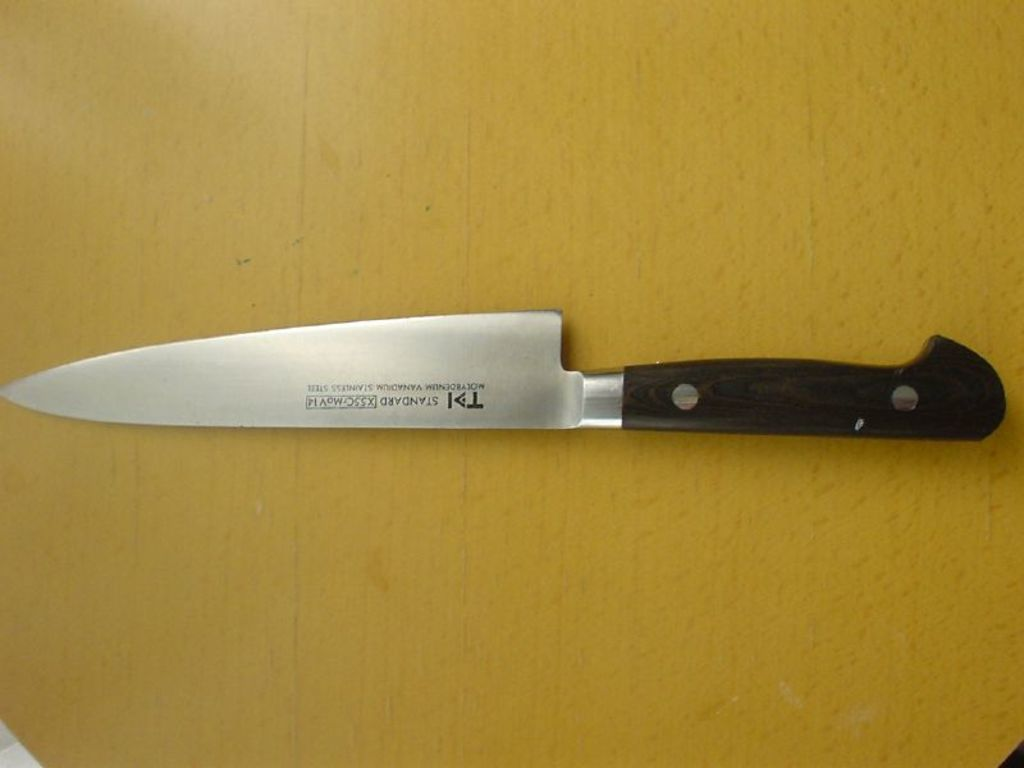kitchen knife: (0, 308, 1006, 441)
